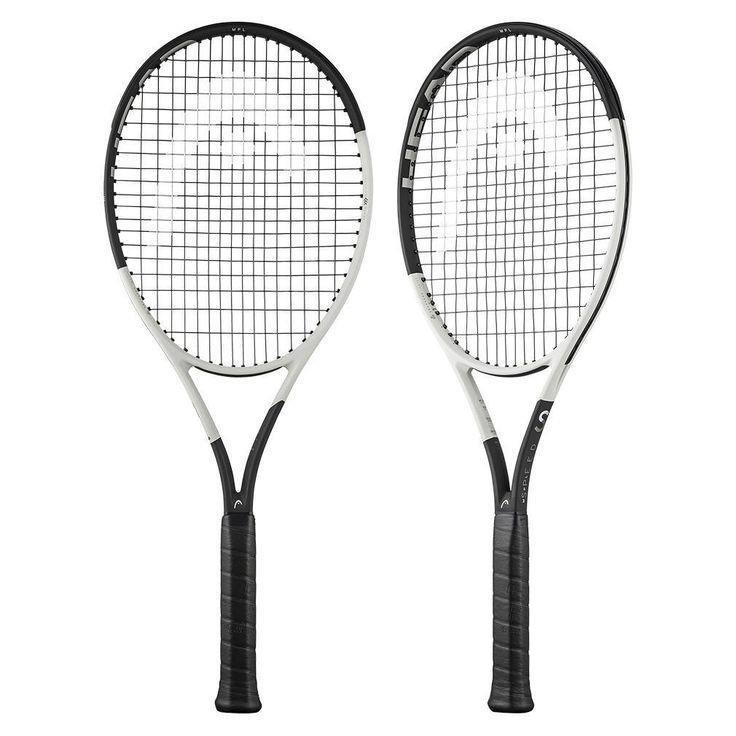Tennis-Racket: (109, 25, 365, 706), (404, 23, 630, 708)
